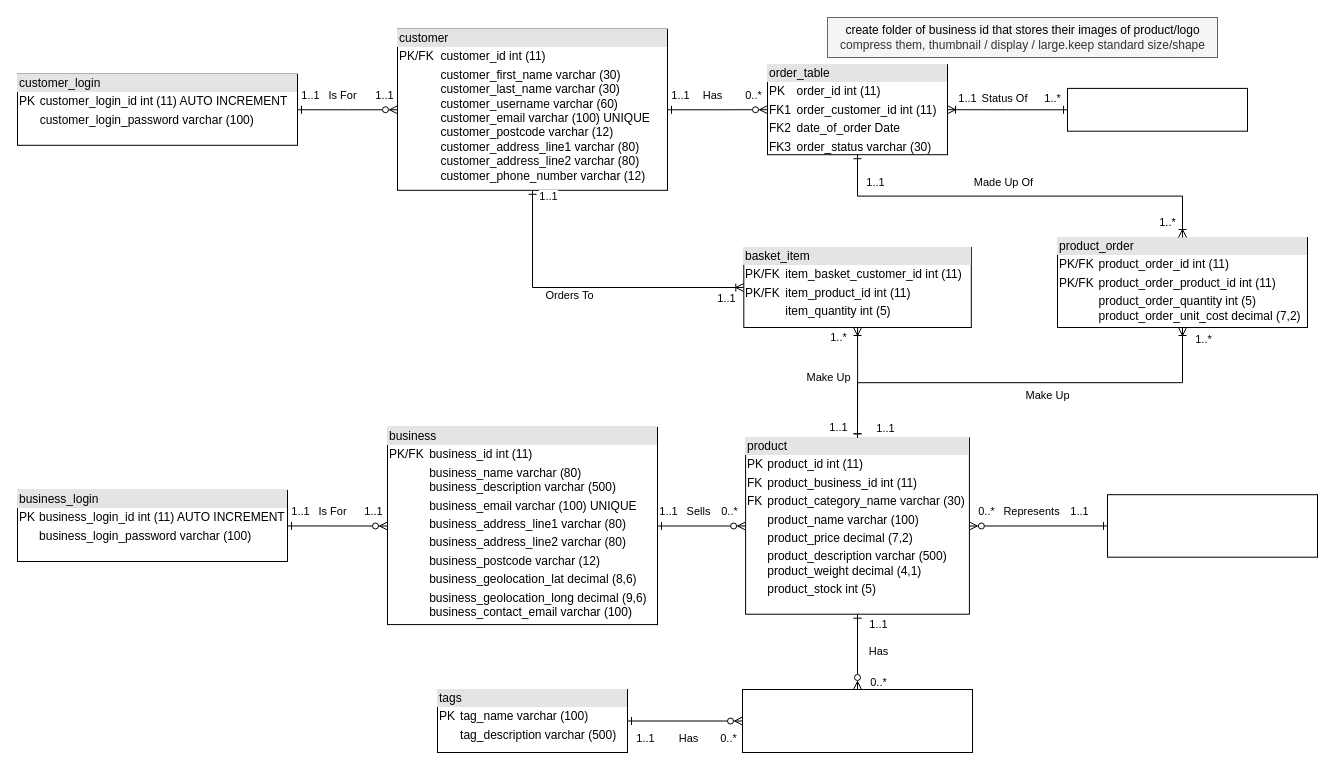
This 1335x770 diagram has some shape labels left out. Each missing label, with the centre of its shape:
category PK category_name varchar (30) category_description varchar (500): (1212,525)
order_status_table PK status_name varchar (30): (1157,109)
product_tags PK/FK product_tag_name varchar (100) PK/FK product_tag_id int (11): (857,720)
